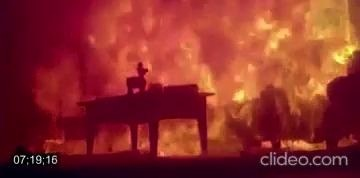fire: (40, 0, 360, 146)
